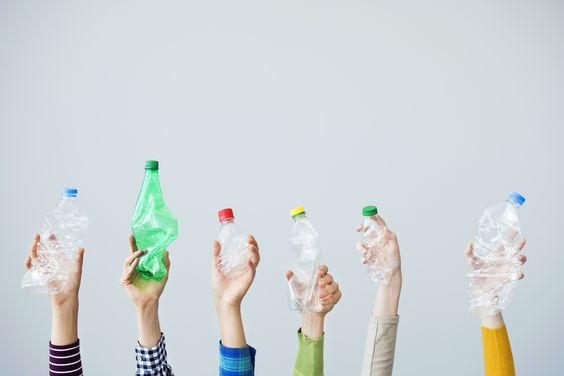HDPE: (508, 190, 526, 207), (216, 207, 235, 222), (289, 206, 307, 219), (144, 159, 160, 171), (361, 205, 378, 216), (63, 187, 79, 198)
PETE: (465, 198, 523, 318), (20, 198, 90, 295), (130, 170, 179, 283), (287, 215, 322, 316), (361, 216, 394, 286), (216, 218, 251, 279)
